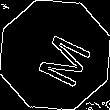M_NW: (22, 23, 88, 87)
